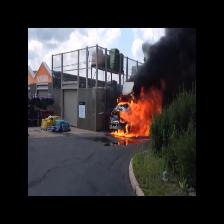fire: (115, 99, 154, 136)
smoke: (155, 40, 194, 90), (134, 63, 153, 90)
